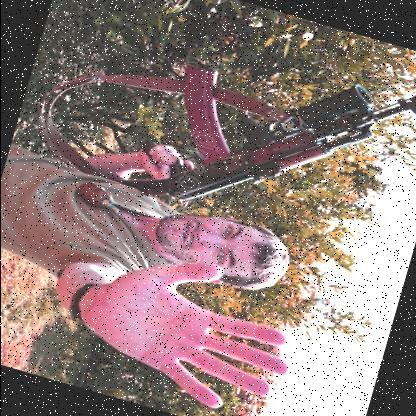rifle: (125, 0, 416, 269)
